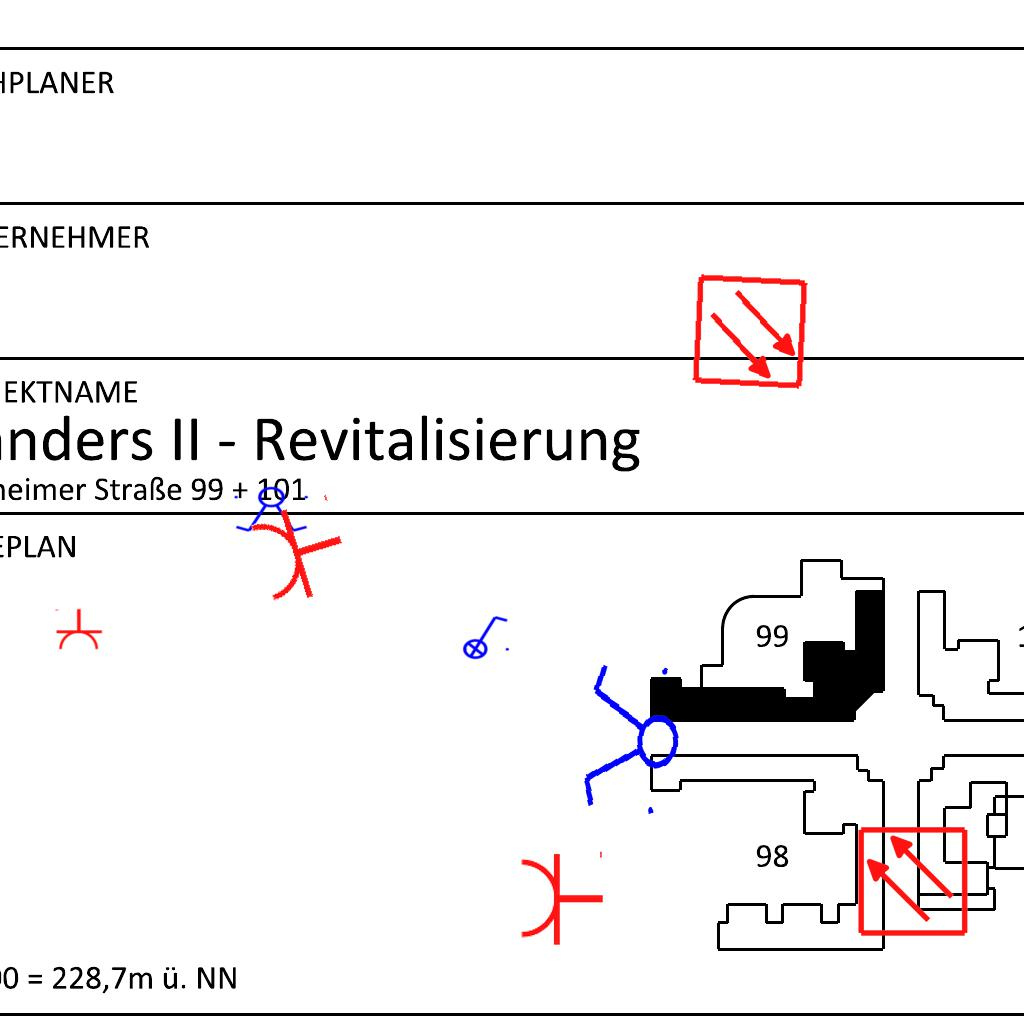Ausschalter_beleuchtet: (456, 612, 512, 660)
RMO_Rauchmelder_optischer: (691, 272, 810, 391), (856, 825, 969, 938)
Schukosteckdose_einfach: (244, 489, 357, 611), (518, 847, 605, 947), (53, 608, 103, 651)
Serienschalter: (575, 651, 689, 829), (230, 486, 314, 534)
